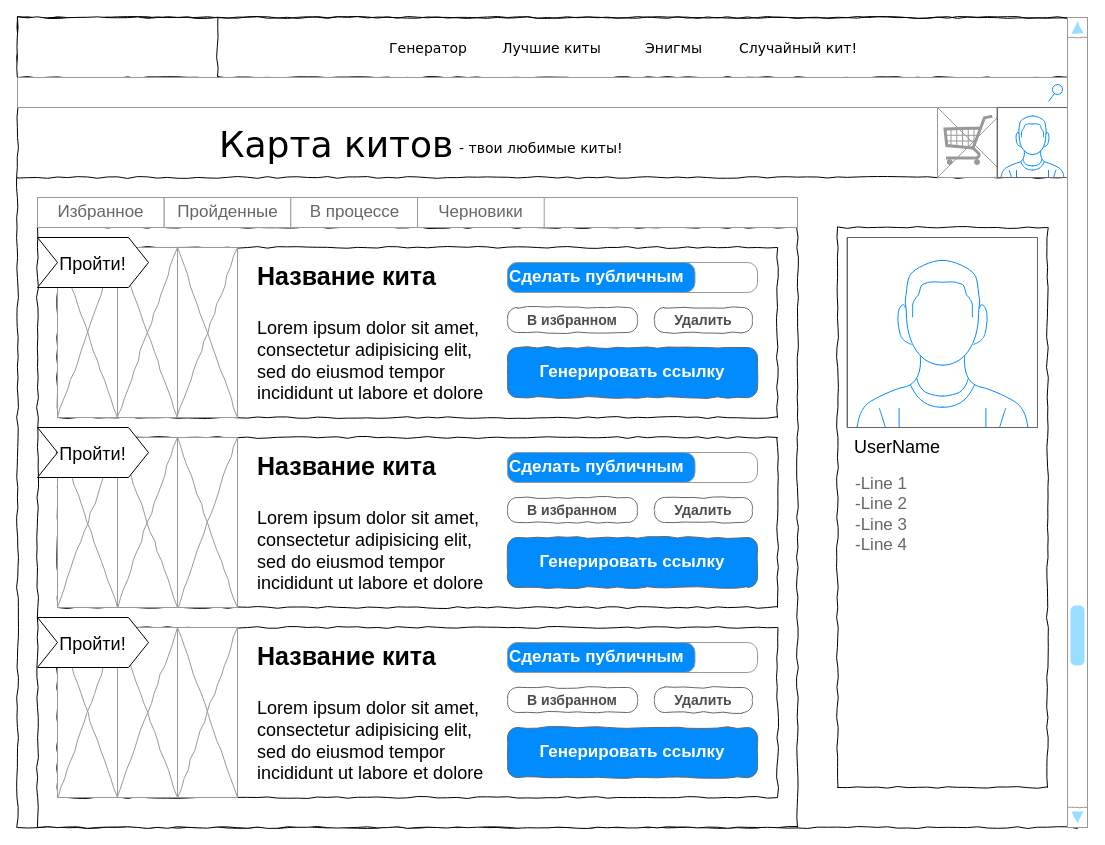
Some shapes in this 1105 by 845 pixel diagram are drawn without their labels. Here are the shapes that lost their labels. From the top down, the box of each, then its label:
(16, 16, 218, 78): LOGO
(16, 76, 1068, 108): Ввести ссылку на кит...
